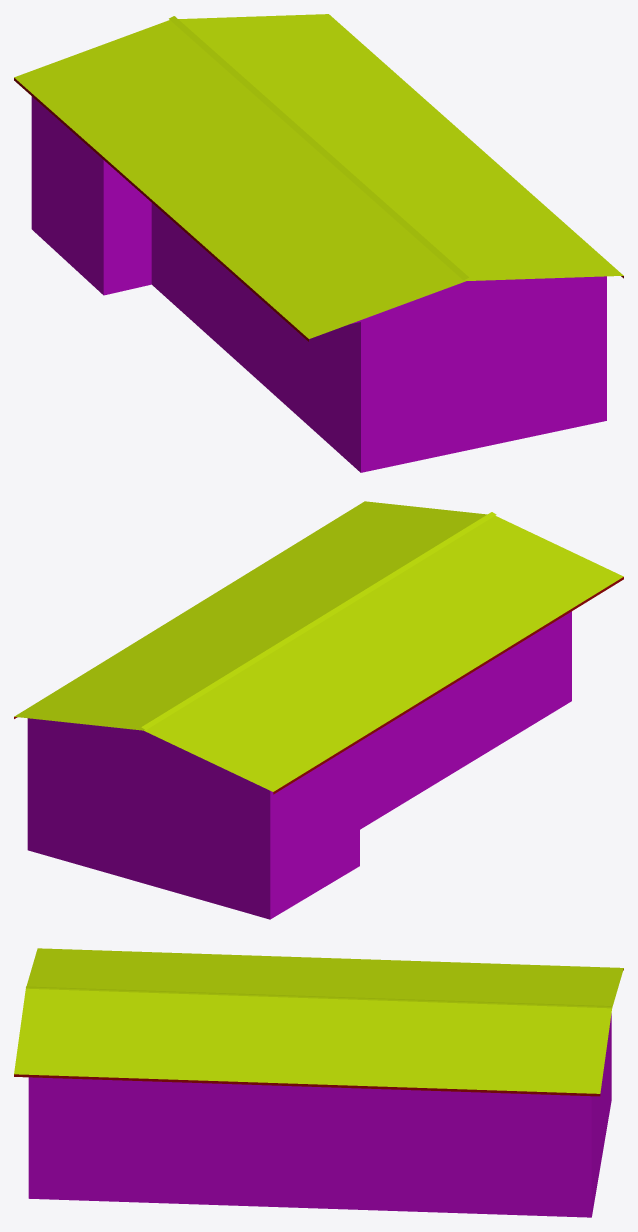
File: rmc_133.glb
The picture shows the model from 3 angles, top to bottom: view 1: azimuth 30°, elevation 25°; view 2: azimuth 150°, elevation 25°; view 3: azimuth 270°, elevation 25°; orthographic projection. The views are drawn at different scales.
Visible parts, largest first — view 1: rmc_133; view 2: rmc_133; view 3: rmc_133.
Boxes of the visible parts, box(x1,y1,x2,y2) form: rmc_133: box(14, 14, 623, 472); rmc_133: box(14, 501, 623, 919); rmc_133: box(14, 948, 623, 1217).
Size of the model in its own units: 14.73 by 7.22 by 26.08.
